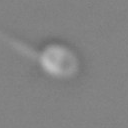normal: (1, 28, 39, 60)
